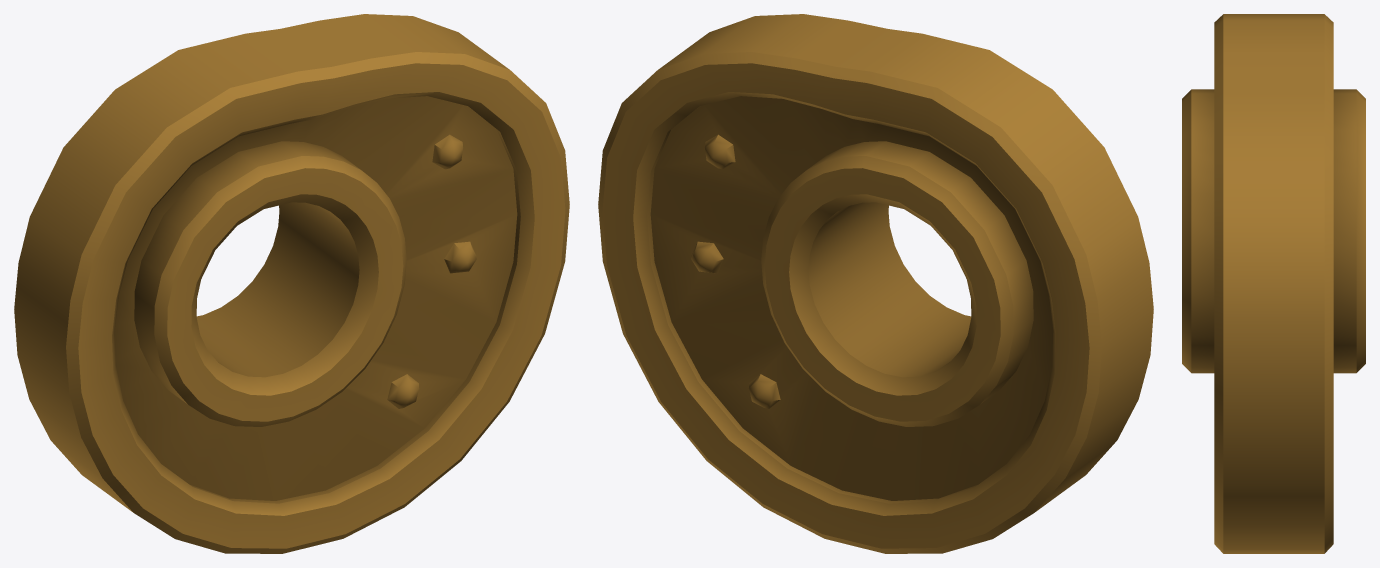
File: cam_eccentric.glb
3 views of the same model, side by side, from view 1: azimuth 30°, elevation 25°; view 2: azimuth 150°, elevation 25°; view 3: azimuth 270°, elevation 25° (orthographic). The views are drawn at different scales.
Visible parts, largest first — view 1: Cam_Eccentric; view 2: Cam_Eccentric; view 3: Cam_Eccentric.
Boxes of the visible parts, box(x1,y1,x2,y2) form: Cam_Eccentric: box(14, 14, 569, 553); Cam_Eccentric: box(598, 14, 1153, 553); Cam_Eccentric: box(1182, 14, 1365, 553).
Bounding box in the file's own units: 0.0247 × 0.0224 × 0.008.
